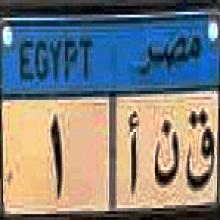1: (44, 113, 71, 197)
alif: (124, 104, 143, 196)
noon: (151, 117, 182, 195)
qaaf: (184, 102, 217, 196)
